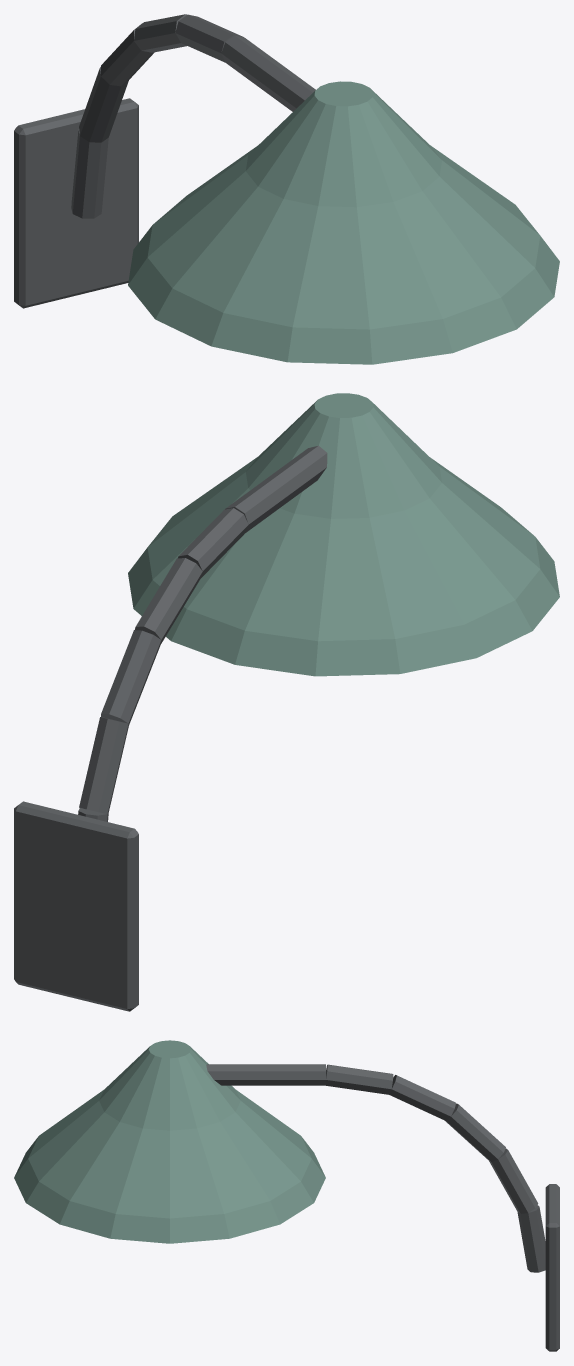
The model's file is gooseneck.glb.
The picture shows the model from 3 angles, top to bottom: view 1: azimuth 30°, elevation 25°; view 2: azimuth 150°, elevation 25°; view 3: azimuth 270°, elevation 25°; orthographic projection. The views are drawn at different scales.
Visible parts, largest first — view 1: gooseneck_enamel, gooseneck_iron; view 2: gooseneck_enamel, gooseneck_iron; view 3: gooseneck_enamel, gooseneck_iron.
Part boxes in pixels (x1=…): gooseneck_enamel: x1=128, y1=81, x2=559, y2=364; gooseneck_iron: x1=14, y1=14, x2=315, y2=308; gooseneck_enamel: x1=128, y1=393, x2=559, y2=676; gooseneck_iron: x1=14, y1=445, x2=327, y2=1011; gooseneck_enamel: x1=14, y1=1040, x2=325, y2=1243; gooseneck_iron: x1=206, y1=1064, x2=559, y2=1351.
Size of the model in its own units: 0.44 by 0.44 by 0.77.
